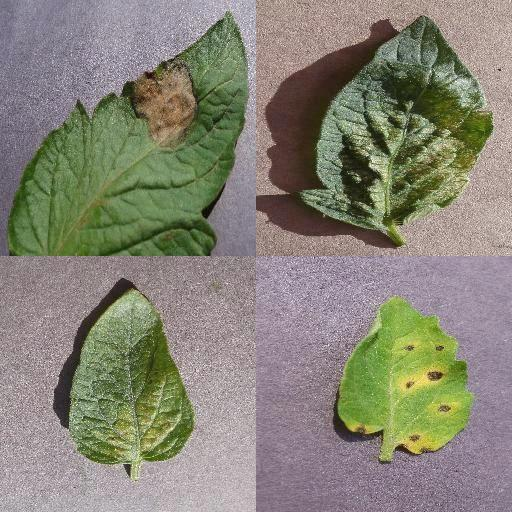Late Blight: (4, 7, 249, 256)
Septoria: (338, 298, 472, 456)
Spider Mites: (297, 15, 493, 233), (69, 287, 193, 463)
